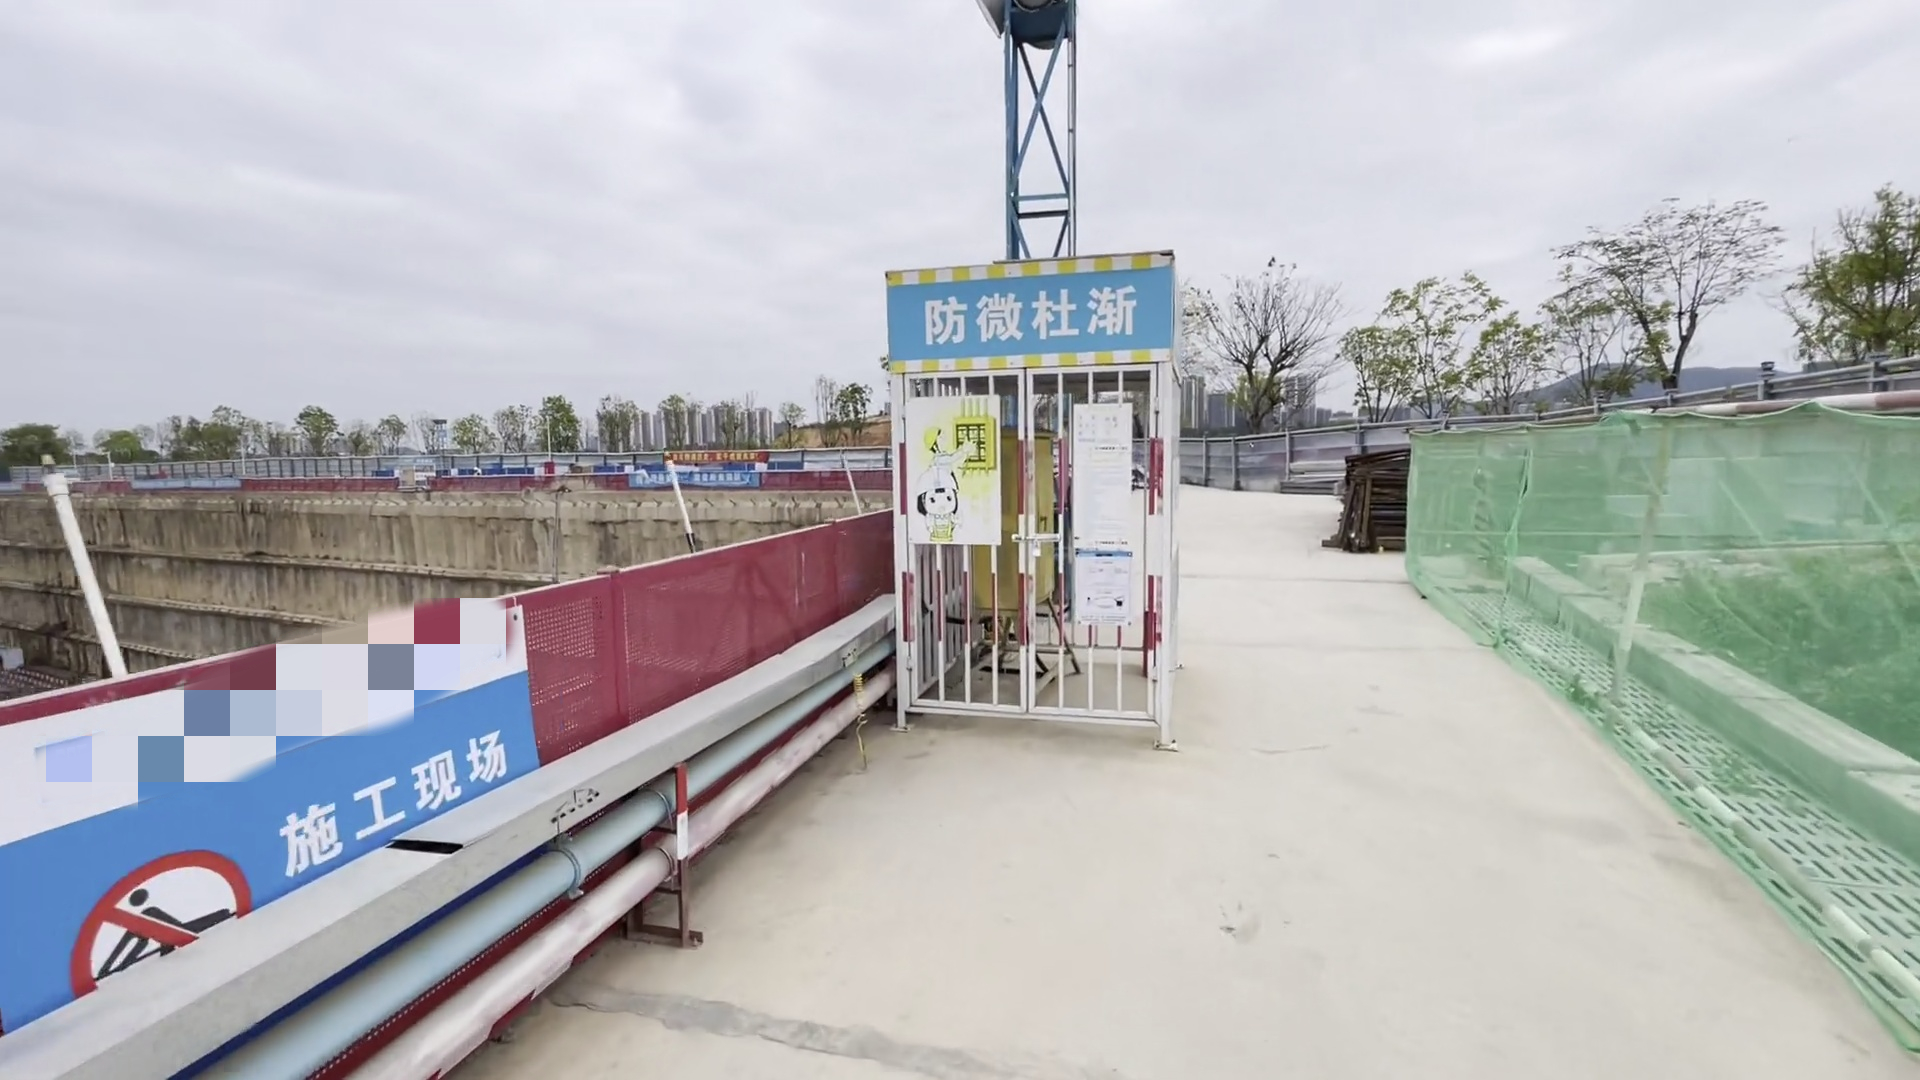fence: (1, 504, 897, 1040)
slogan: (251, 728, 555, 877), (909, 274, 1162, 377), (665, 446, 764, 485)
